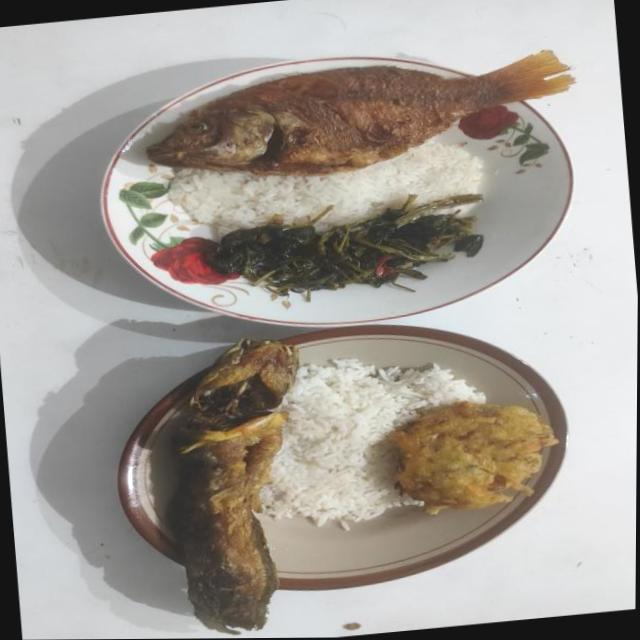ikan_mujair: (146, 50, 574, 174)
nasi_putih: (260, 358, 484, 530), (168, 140, 483, 236)
tumis_kangkung: (208, 194, 482, 300)
